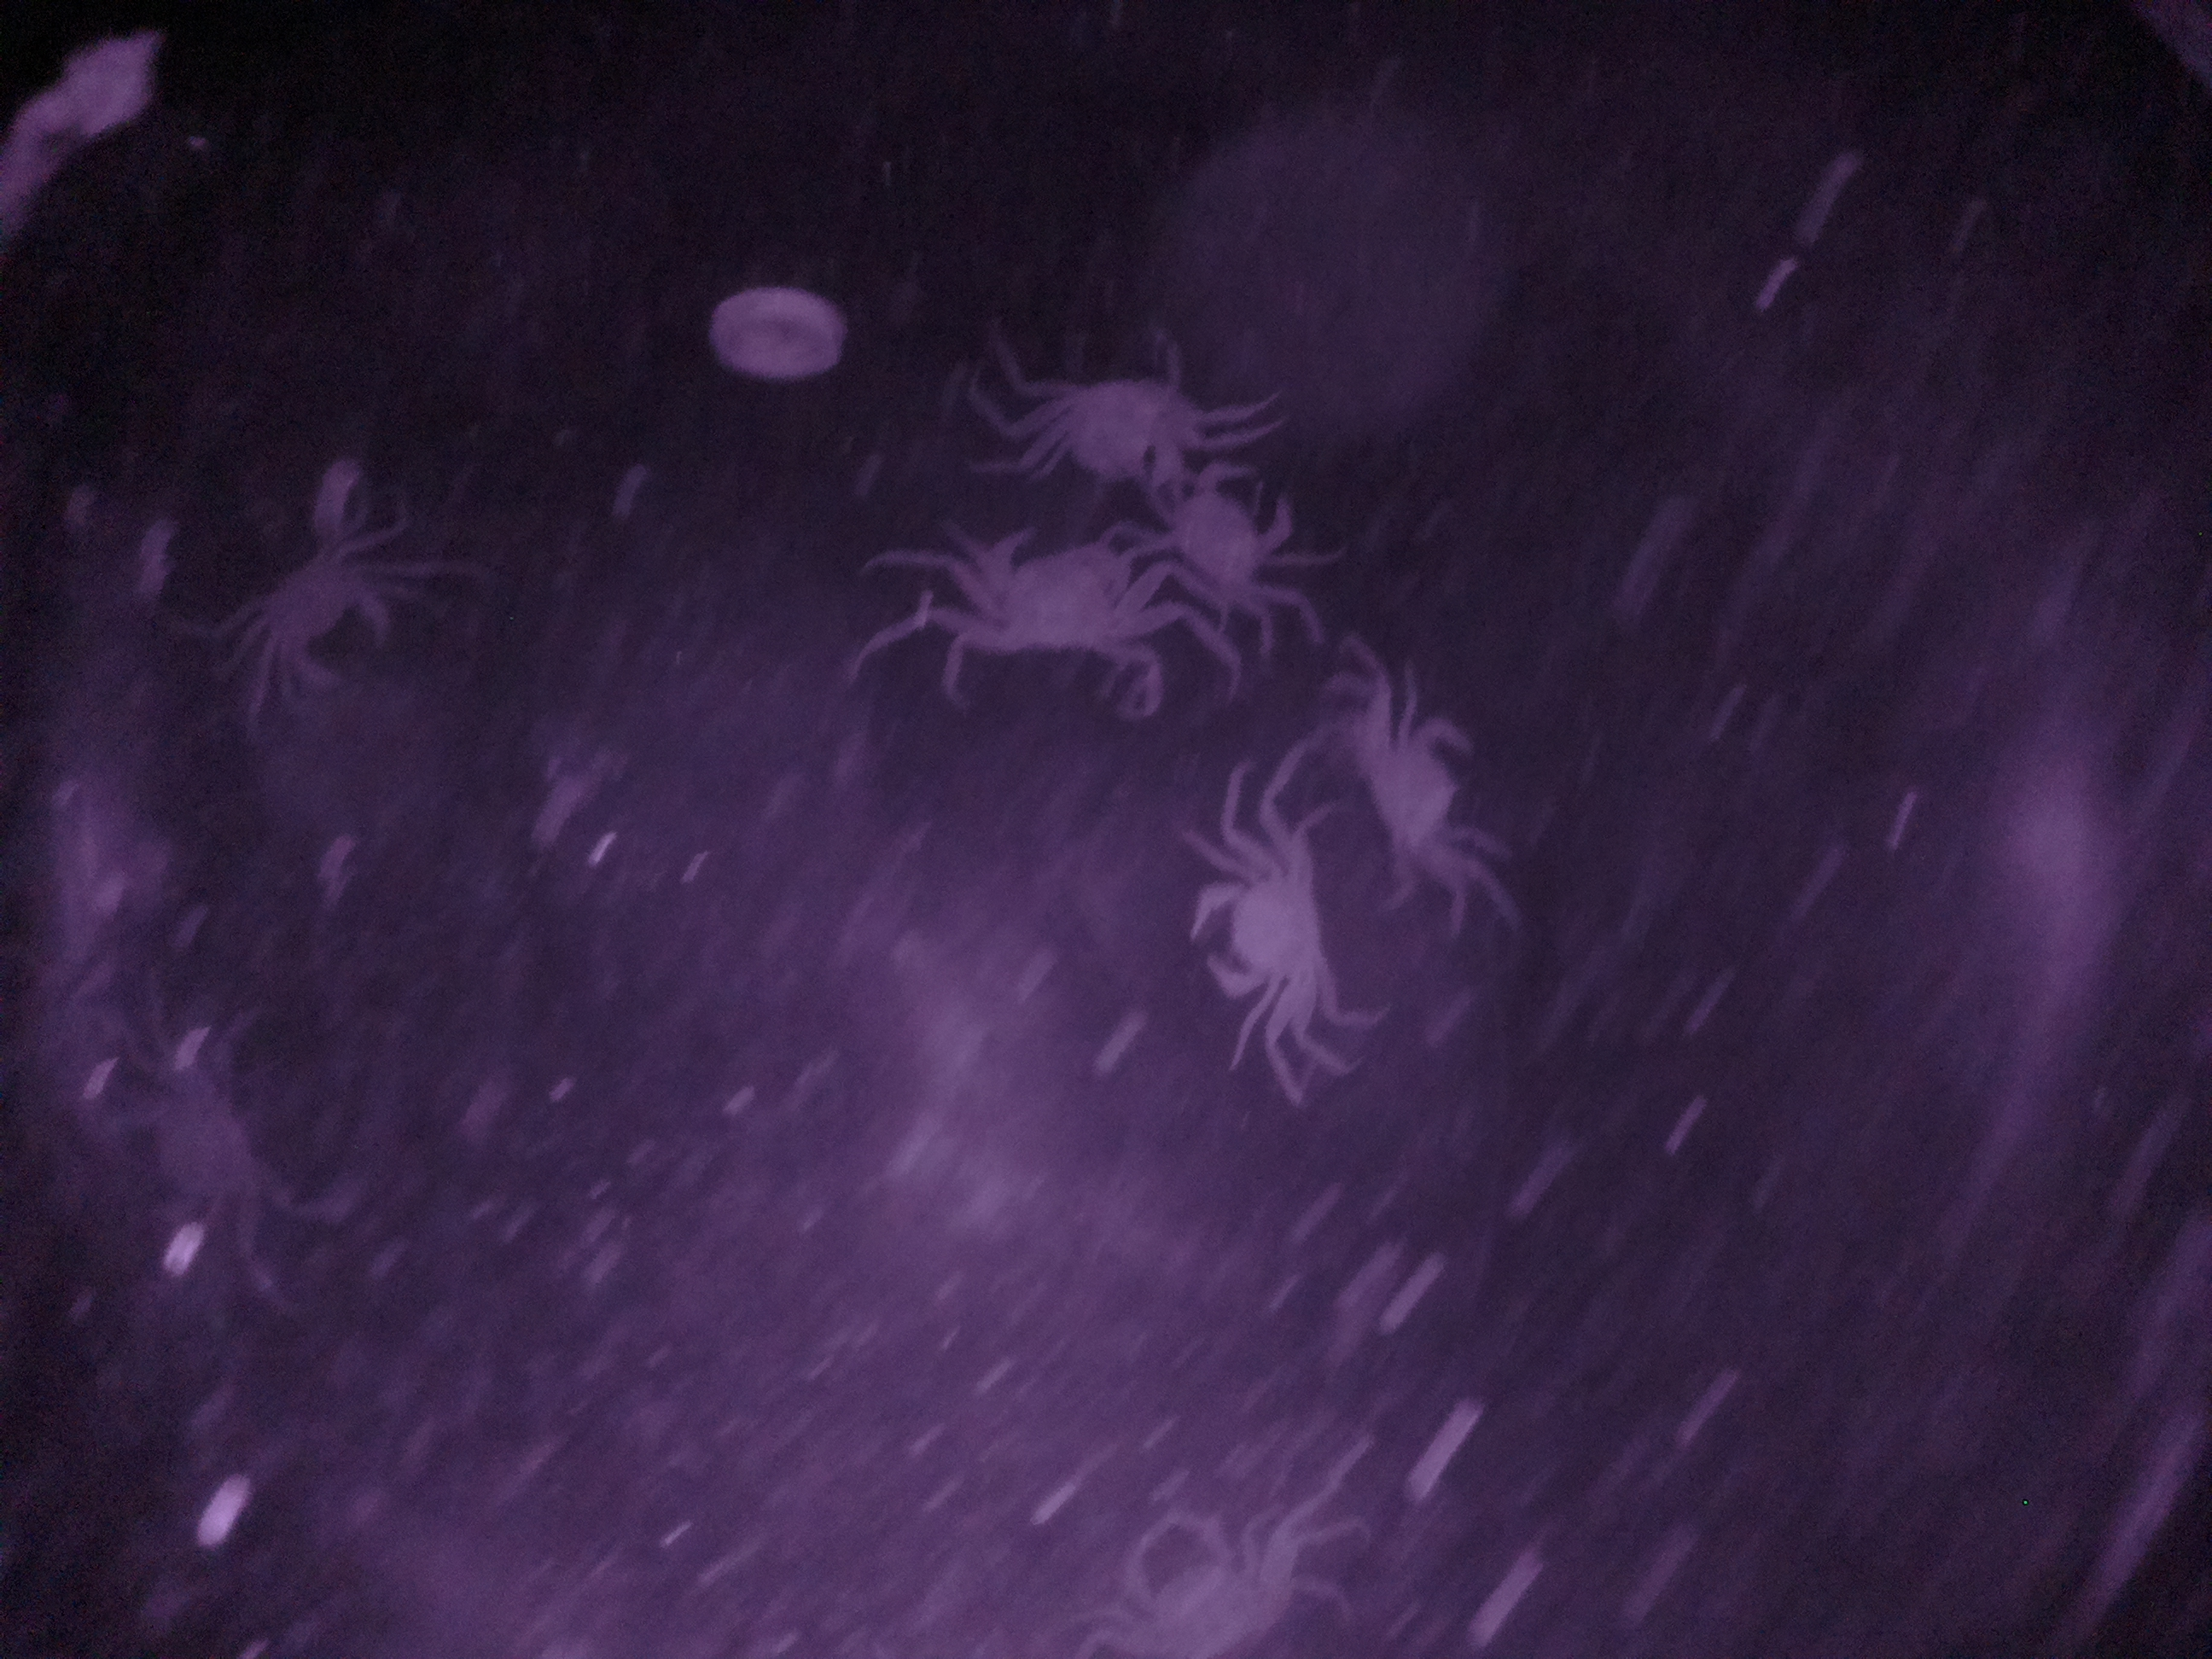Crab: (944, 519, 1188, 683), (1170, 833, 1362, 1021)
